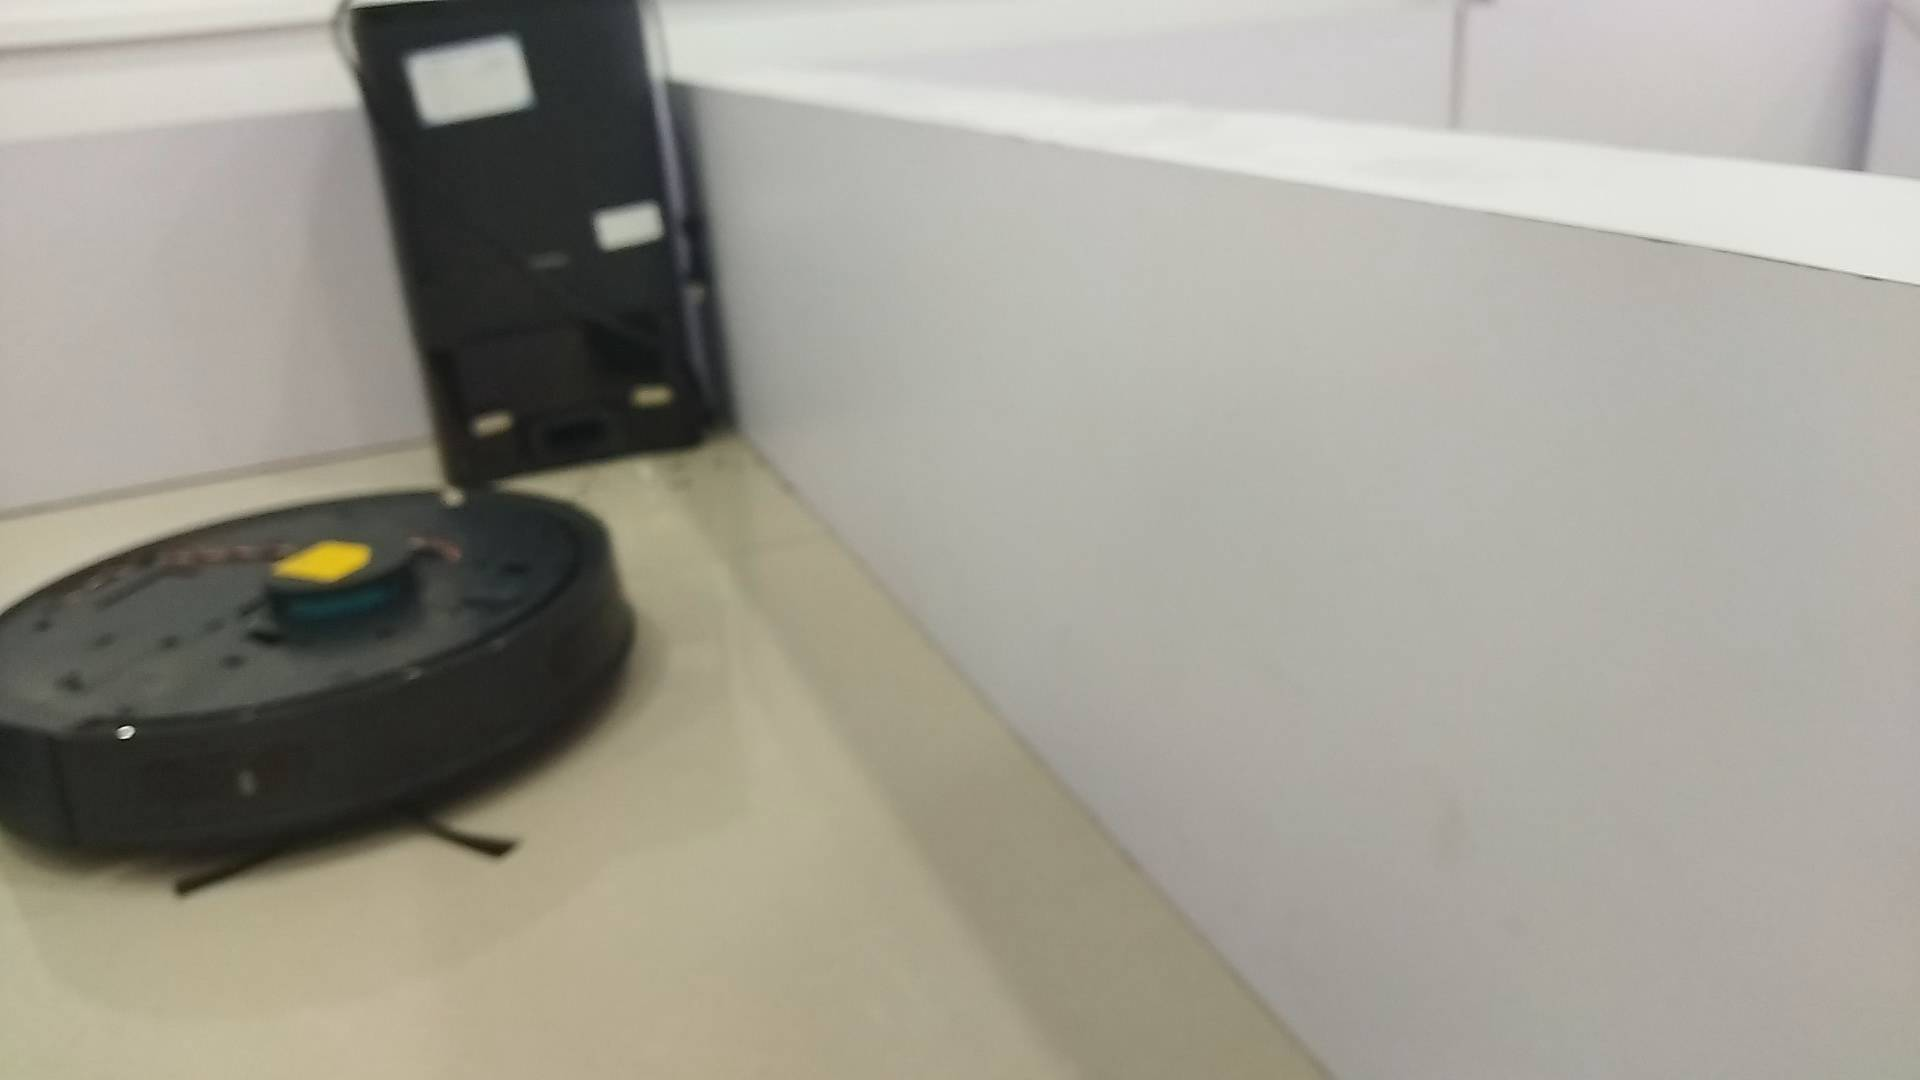dust collecting barrel: (348, 4, 729, 489)
